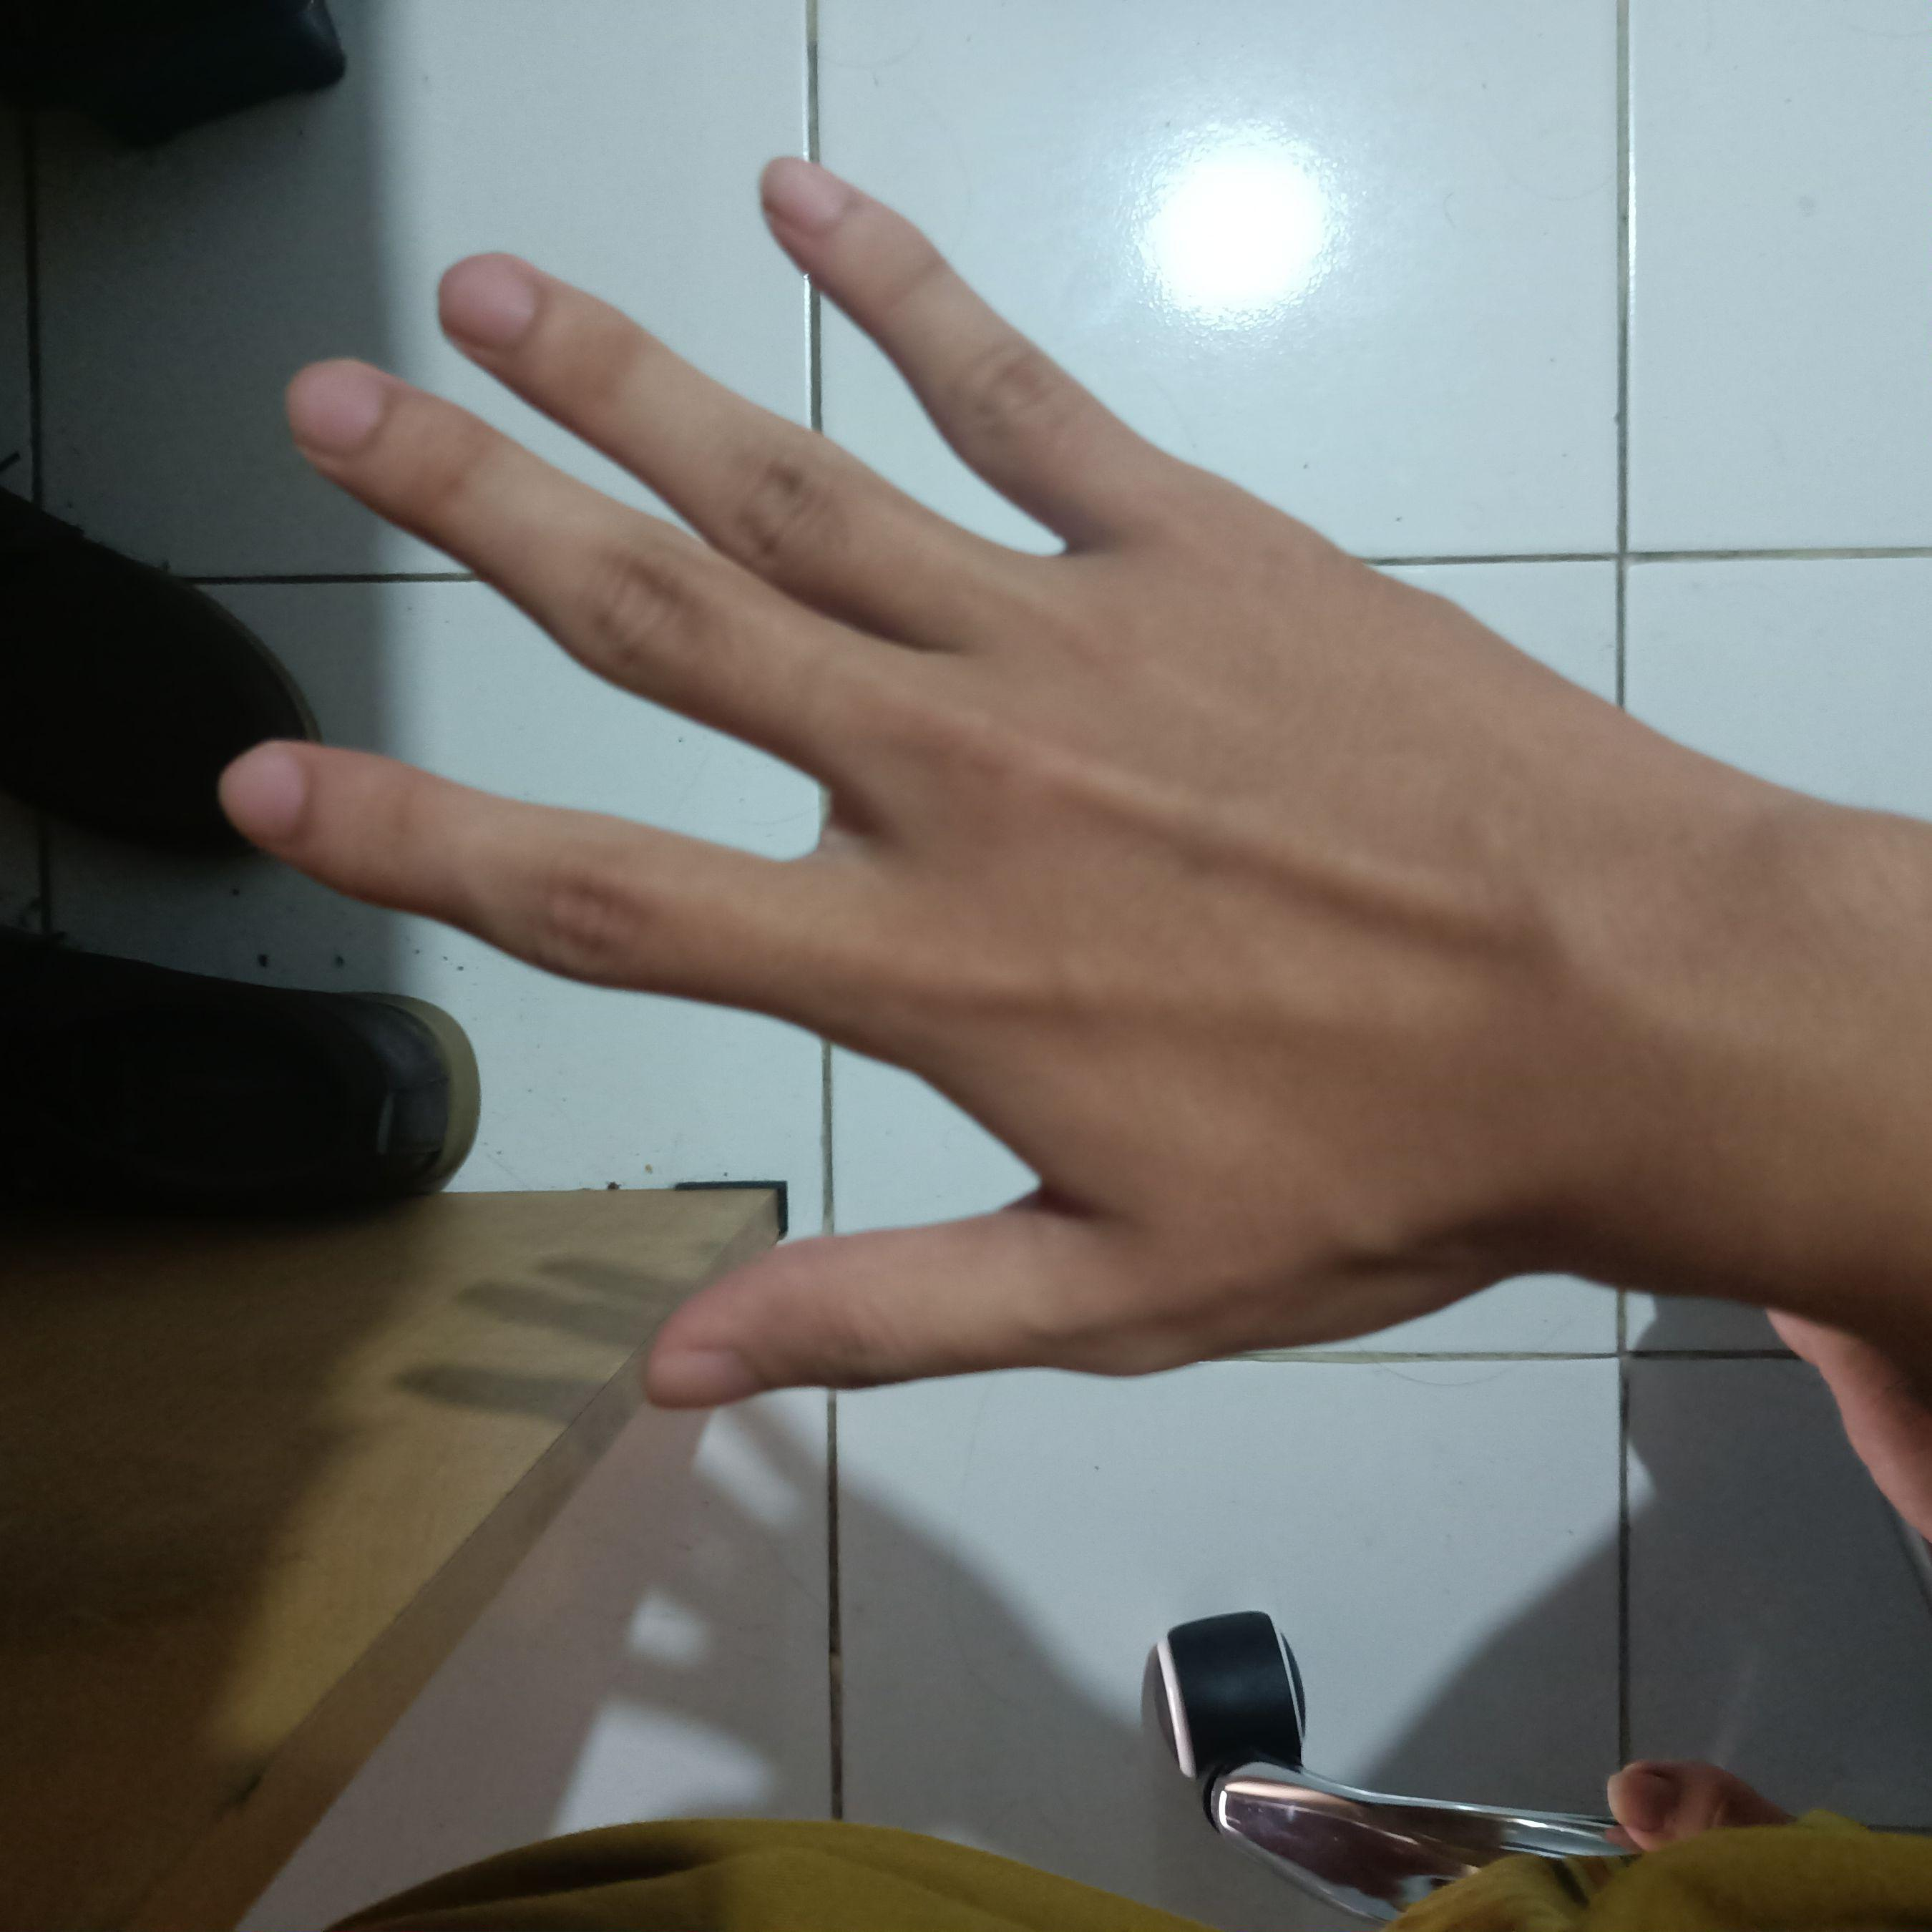paper: (218, 117, 1642, 1424)
